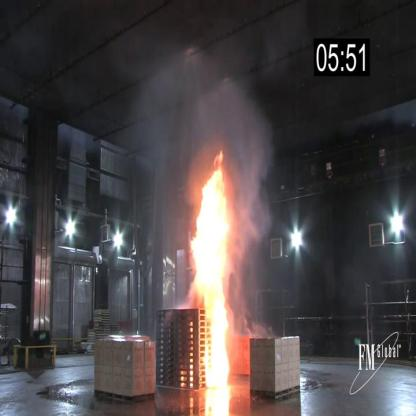fire: (190, 147, 235, 395)
